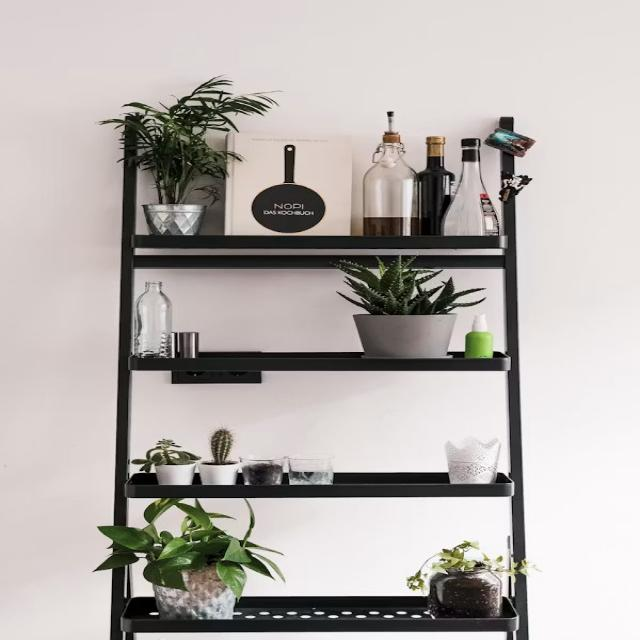Bottle: (363, 112, 419, 236), (443, 139, 499, 236), (418, 136, 454, 235), (135, 282, 171, 357), (464, 315, 493, 358)
